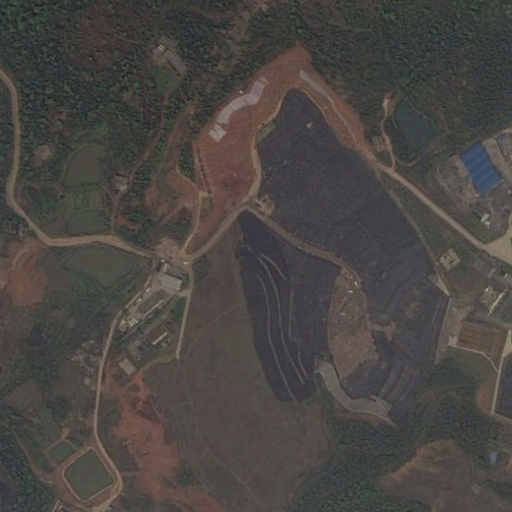lf: (233, 87, 453, 439)
